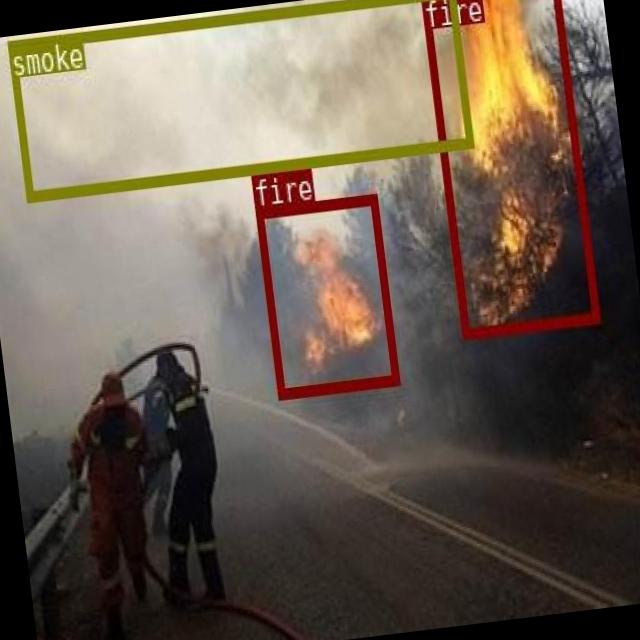fire: (419, 0, 598, 337), (254, 192, 397, 396)
smoke: (7, 0, 471, 200)
